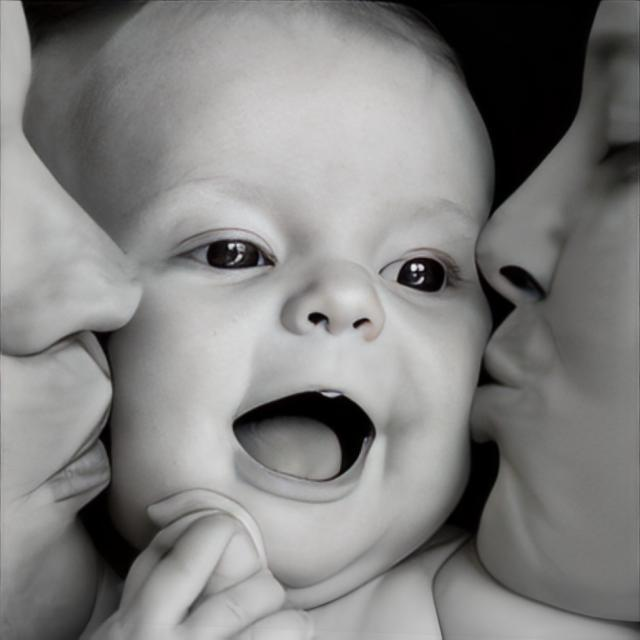surprise: (28, 0, 496, 611)
